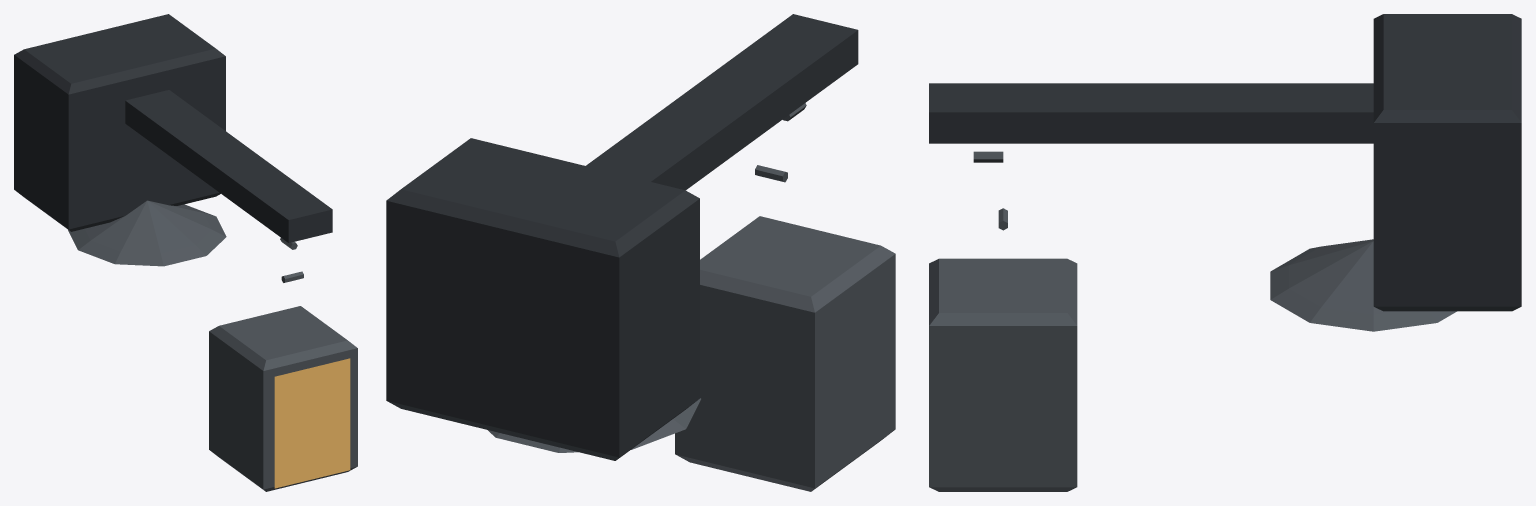
The model's file is torch.fbx.
3 renders of one model, left to right at view 1: azimuth 30°, elevation 25°; view 2: azimuth 150°, elevation 25°; view 3: azimuth 270°, elevation 25°, orthographic. The views are drawn at different scales.
Visible parts, largest first — view 1: torch; view 2: torch; view 3: torch.
Part boxes in pixels (<box>): torch: <box>14,14,357,491</box>; torch: <box>386,14,895,491</box>; torch: <box>929,14,1521,491</box>.
Bounding box in the file's own units: 0.5 × 0.9 × 1.21.
